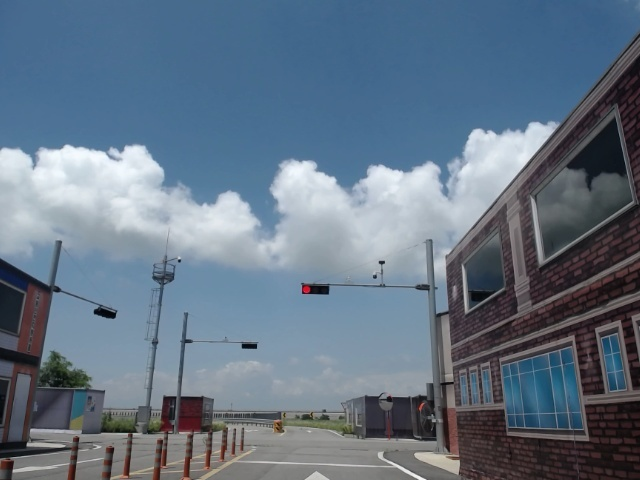red_3: (300, 285, 331, 296)
